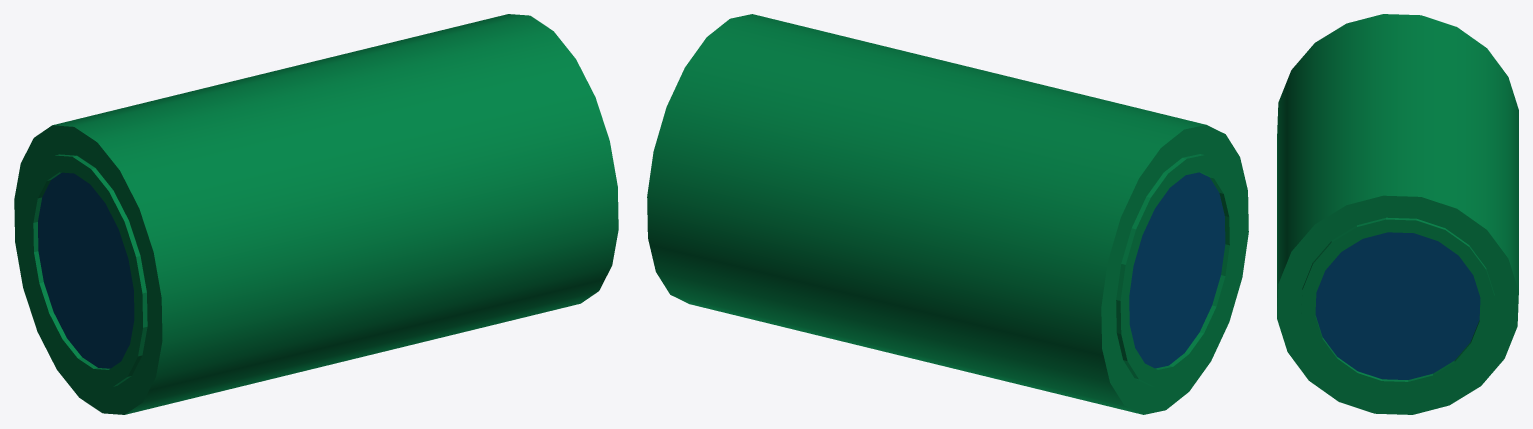
File: cylindre du bras.FBX
3 views of the same model, side by side, from view 1: azimuth 30°, elevation 25°; view 2: azimuth 150°, elevation 25°; view 3: azimuth 270°, elevation 25° (orthographic). The views are drawn at different scales.
Parts seen in each view (by area): view 1: Cylinder002; view 2: Cylinder002; view 3: Cylinder002.
Part boxes in pixels (left/top/right/bottom): Cylinder002: left=14, top=14, right=618, bottom=414; Cylinder002: left=647, top=14, right=1248, bottom=414; Cylinder002: left=1277, top=14, right=1518, bottom=414.
Size of the model in its own units: 83.3 by 45.97 by 45.97.
